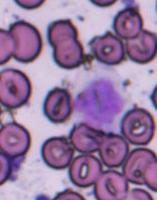M: (73, 75, 125, 130)
